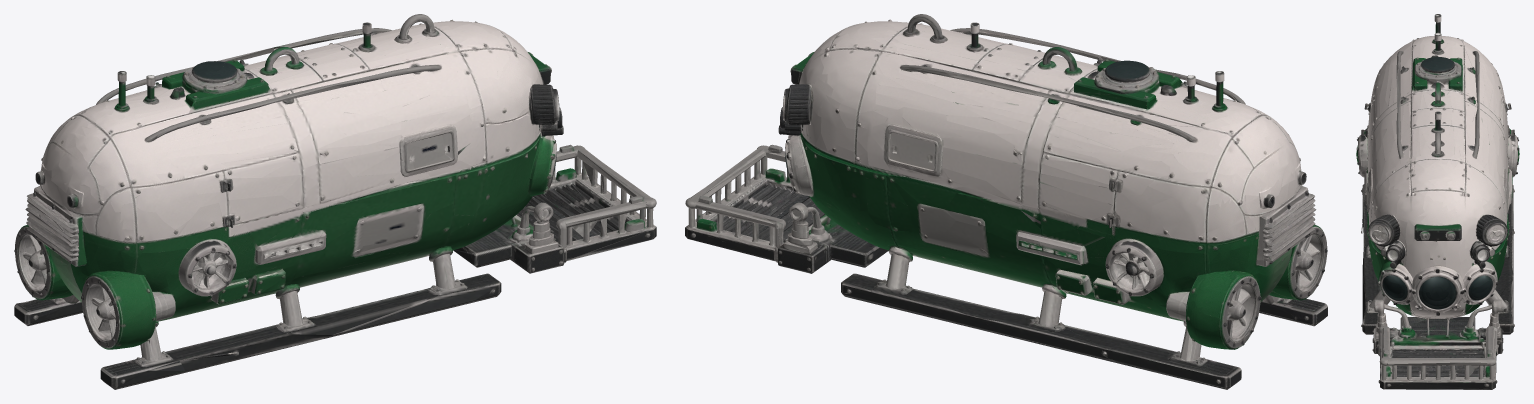
File: sumergible.glb
The picture shows the model from 3 angles, left to right: view 1: azimuth 30°, elevation 25°; view 2: azimuth 150°, elevation 25°; view 3: azimuth 270°, elevation 25°; orthographic projection. The views are drawn at different scales.
Parts seen in each view (by area): view 1: Casco y conjunto exterior; view 2: Casco y conjunto exterior; view 3: Casco y conjunto exterior.
Boxes of the visible parts, left/top/right/bottom form: Casco y conjunto exterior: left=14, top=14, right=656, bottom=389; Casco y conjunto exterior: left=685, top=14, right=1327, bottom=389; Casco y conjunto exterior: left=1356, top=14, right=1519, bottom=389.
Size of the model in its own units: 10.3 by 4.6 by 3.39.
Materials: 1 (1 with a texture image).
